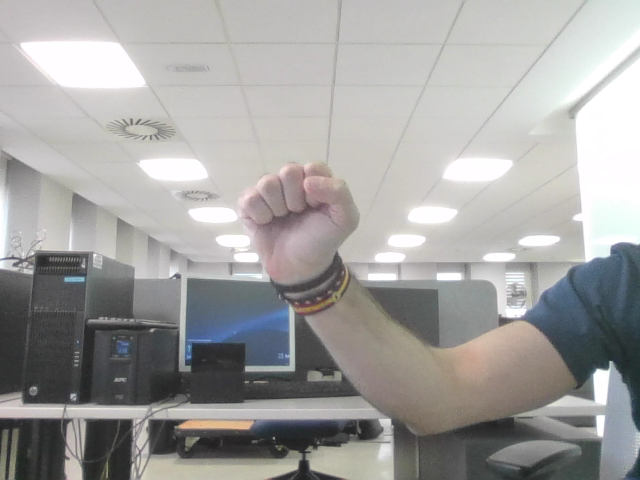Puño: (253, 170, 339, 251)
